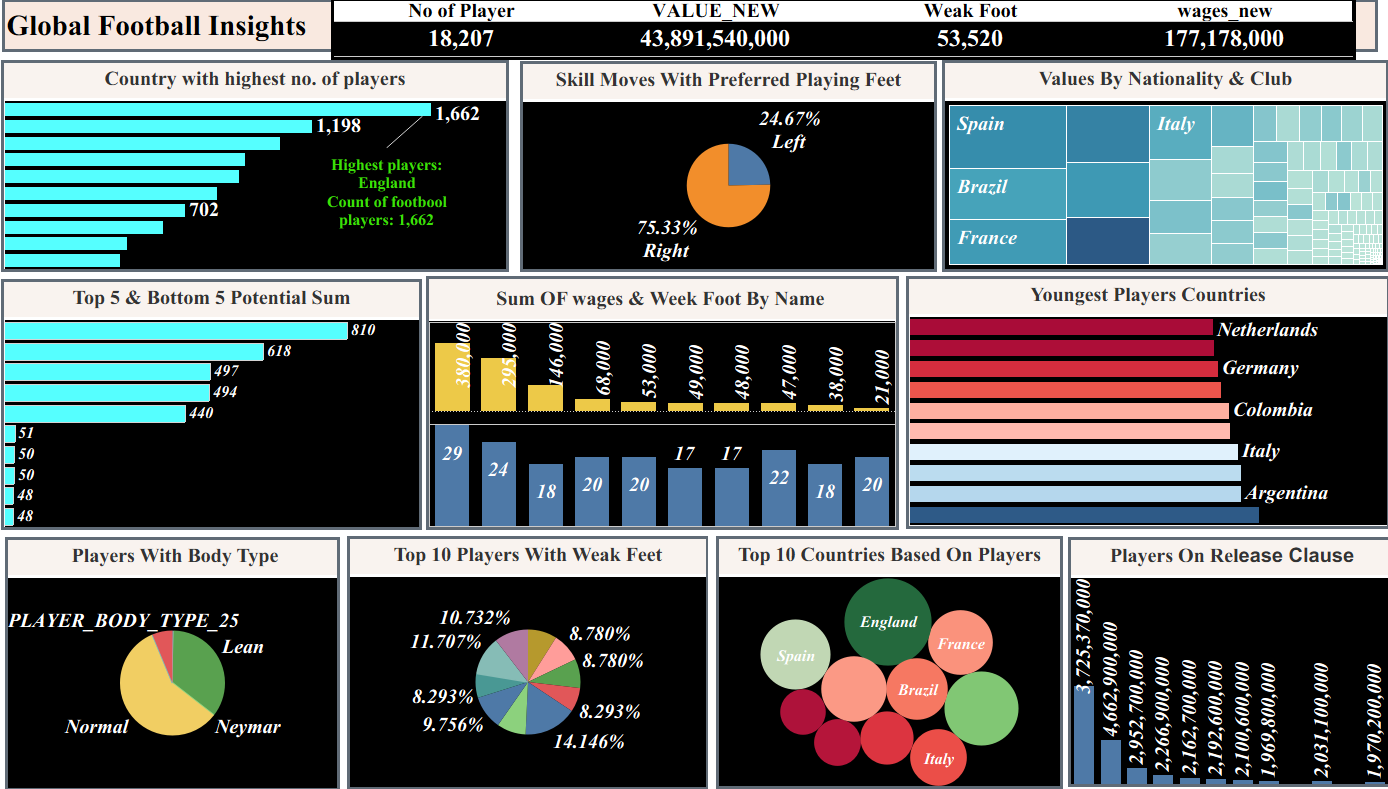

The dashboard page shown, as its layout file describes it:
{"tool":"tableau","page":{"name":"Dashboard 1","canvas":[1400,820],"ordinal":0},"visuals":[{"type":"title","box":[8,8,1384,61]},{"type":"worksheet","title":"KPI","mark":"Automatic","box":[341,11,1025,62]},{"type":"worksheet","title":"Sheet 1","mark":"Automatic","rows":["Nationality"],"cols":["footbool case study.csv_4B85F31FF7FE4D7981BC0A8374180F8F"],"box":[11.3,72.6,508.3,212.5]},{"type":"worksheet","title":"Sheet 3","mark":"Automatic","box":[952.1,72.6,446.9,212.5]},{"type":"worksheet","title":"Sheet 2","mark":"Pie","box":[529.9,73.7,417.1,211.4]},{"type":"worksheet","title":"Sheet 8","mark":"Automatic","rows":["Calculation_1923600045855076354","Weak Foot"],"cols":["Name"],"box":[435.6,289.3,473.5,254.1]},{"type":"worksheet","title":"Sheet 14","mark":"Automatic","rows":["Nationality"],"cols":["Age"],"box":[916.3,289.3,483.7,253]},{"type":"worksheet","title":"Sheet 7","mark":"Automatic","rows":["Name"],"cols":["Potential"],"box":[10.6,292.5,420.9,250.6]},{"type":"worksheet","title":"Sheet 15","mark":"Pie","box":[356.7,548.8,361.8,254.1]},{"type":"worksheet","title":"Sheet 12","mark":"Circle","box":[725.6,548.8,347.4,253]},{"type":"worksheet","title":"Sheet 10","mark":"Pie","box":[15.4,549.9,335.1,254.1]},{"type":"worksheet","title":"Sheet 16","mark":"Automatic","rows":["footbool case study.csv_4B85F31FF7FE4D7981BC0A8374180F8F"],"cols":["release_cluase_new (bin)"],"box":[1078.2,549.9,322.8,249.8]}]}

Visuals, with their boxes in screenshot pixels (x1, y1, x2, y2):
title: [8, 0, 1368, 57]
"KPI" worksheet: [335, 0, 1342, 61]
"Sheet 1" worksheet: [11, 60, 511, 269]
"Sheet 3" worksheet: [935, 60, 1375, 269]
"Sheet 2" worksheet (Pie marks): [521, 62, 930, 269]
"Sheet 8" worksheet: [428, 273, 893, 523]
"Sheet 14" worksheet: [900, 273, 1376, 522]
"Sheet 7" worksheet: [10, 277, 424, 523]
"Sheet 15" worksheet (Pie marks): [350, 528, 706, 778]
"Sheet 12" worksheet (Circle marks): [713, 528, 1054, 777]
"Sheet 10" worksheet (Pie marks): [15, 529, 344, 779]
"Sheet 16" worksheet: [1059, 529, 1376, 775]
